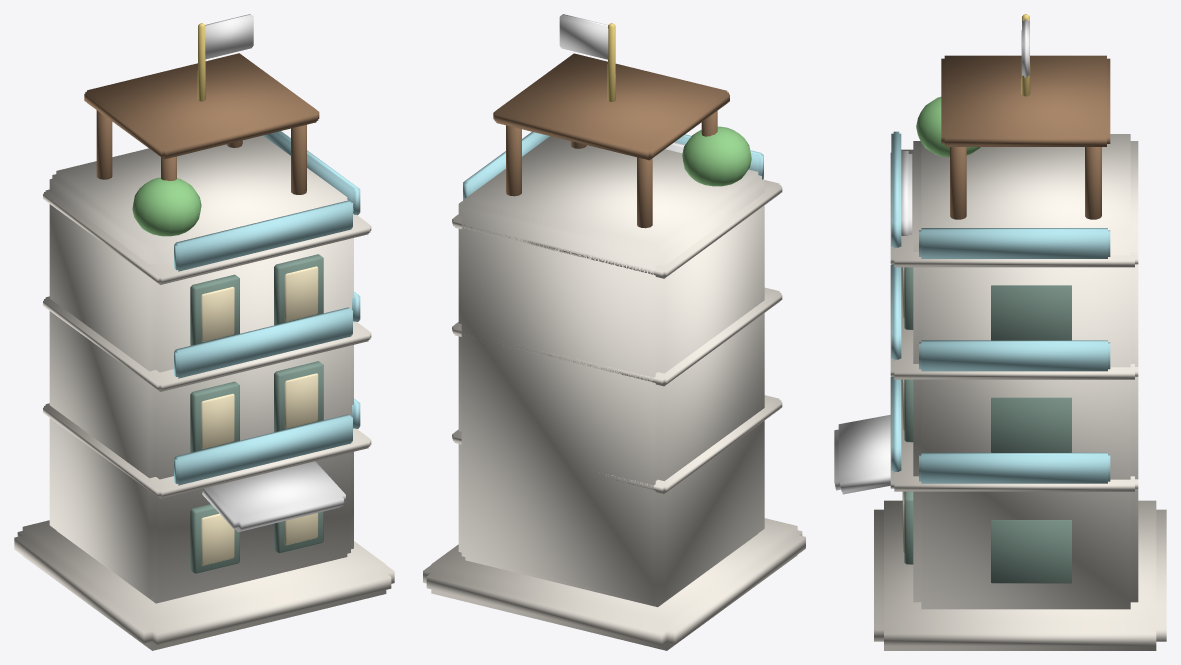
File: lvl3_minihotel.glb
3 views of the same model, side by side, from view 1: azimuth 30°, elevation 25°; view 2: azimuth 150°, elevation 25°; view 3: azimuth 270°, elevation 25° (orthographic). The views are drawn at different scales.
Parts seen in each view (by area): view 1: lvl3_minihotel; view 2: lvl3_minihotel; view 3: lvl3_minihotel.
Part boxes in pixels (x1,y1,x2,y2): lvl3_minihotel: (14,14,394,650); lvl3_minihotel: (423,14,805,650); lvl3_minihotel: (834,14,1166,650).
Bounding box in the file's own units: 0.54 × 1.13 × 0.5902.
